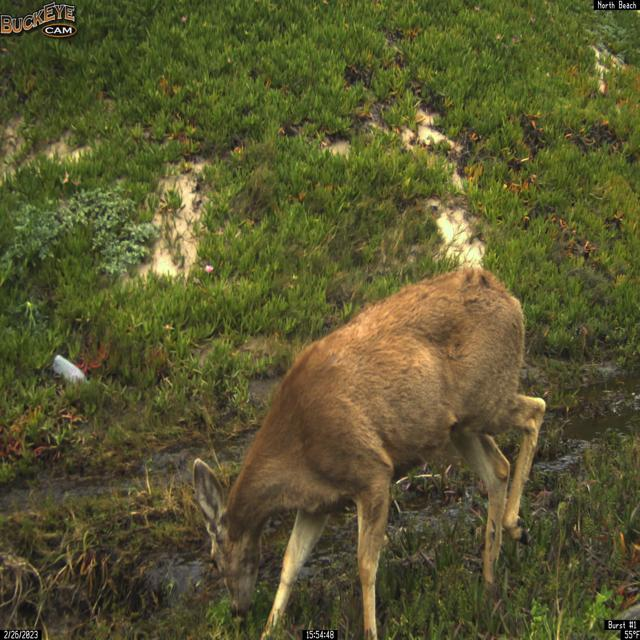deer: (191, 265, 547, 640)
